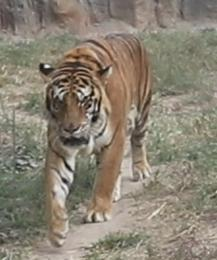tiger: (40, 33, 151, 245)
